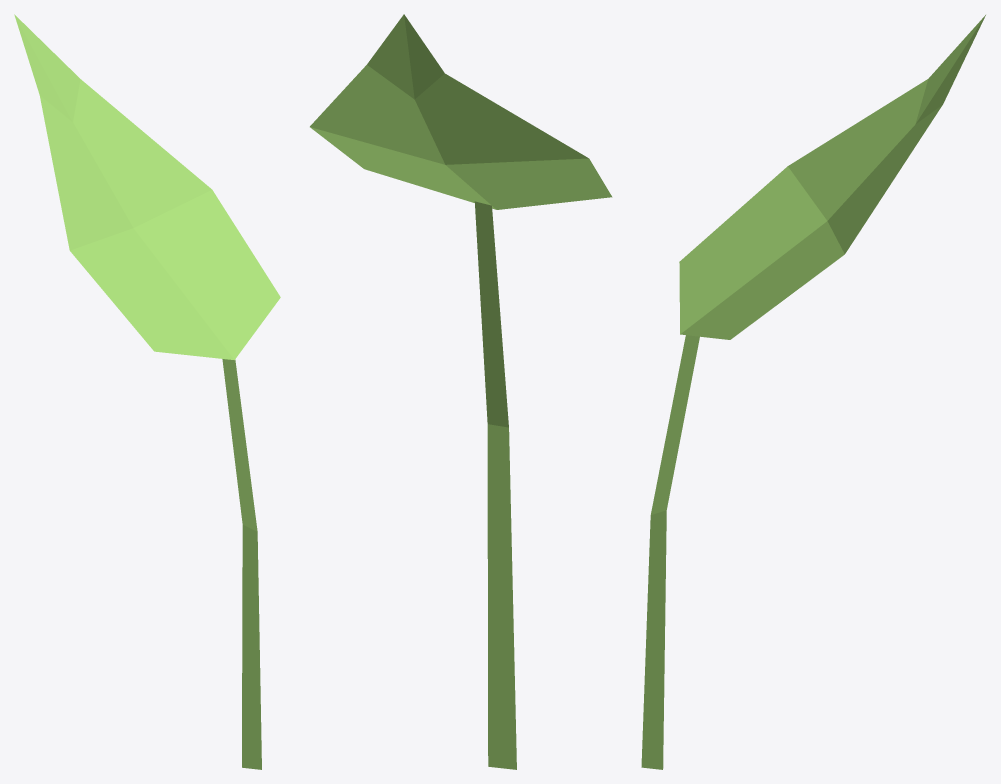
File: Plant_f_OneS_01.fbx
3 views of the same model, side by side, from view 1: azimuth 30°, elevation 25°; view 2: azimuth 150°, elevation 25°; view 3: azimuth 270°, elevation 25° (orthographic). The views are drawn at different scales.
Parts seen in each view (by area): view 1: Plant_f_OneS_01; view 2: Plant_f_OneS_01; view 3: Plant_f_OneS_01.
Part boxes in pixels (x1,y1,x2,y2): Plant_f_OneS_01: [14, 14, 280, 769]; Plant_f_OneS_01: [310, 14, 612, 769]; Plant_f_OneS_01: [641, 15, 985, 769].
Bounding box in the file's own units: 0.1388 × 0.4746 × 0.2096.
